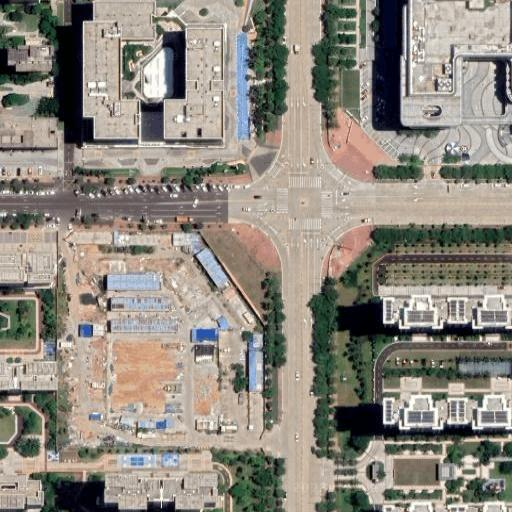building: (399, 0, 512, 126), (82, 1, 157, 140), (163, 22, 227, 142), (381, 395, 512, 431), (101, 471, 219, 510), (381, 295, 512, 330), (0, 360, 57, 391), (0, 252, 51, 283), (195, 247, 229, 288), (7, 43, 53, 73), (0, 475, 43, 506), (382, 502, 512, 512), (106, 273, 161, 288), (111, 319, 177, 331), (111, 297, 170, 310), (248, 350, 262, 391), (0, 412, 17, 443), (191, 329, 218, 342), (137, 419, 171, 428), (439, 463, 455, 477), (249, 333, 261, 351), (217, 315, 230, 331), (80, 324, 92, 338), (243, 312, 253, 323), (371, 465, 377, 479), (90, 413, 101, 419)
